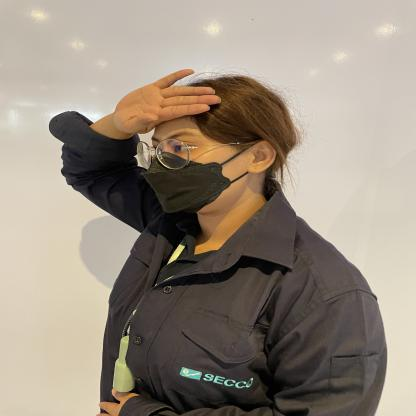Sick: (21, 56, 237, 160)
